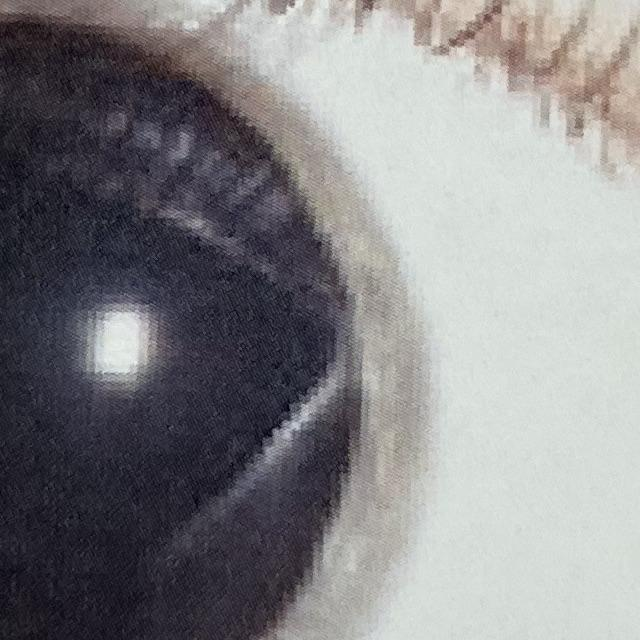eye: (0, 0, 640, 640)
iris: (0, 0, 423, 640)
